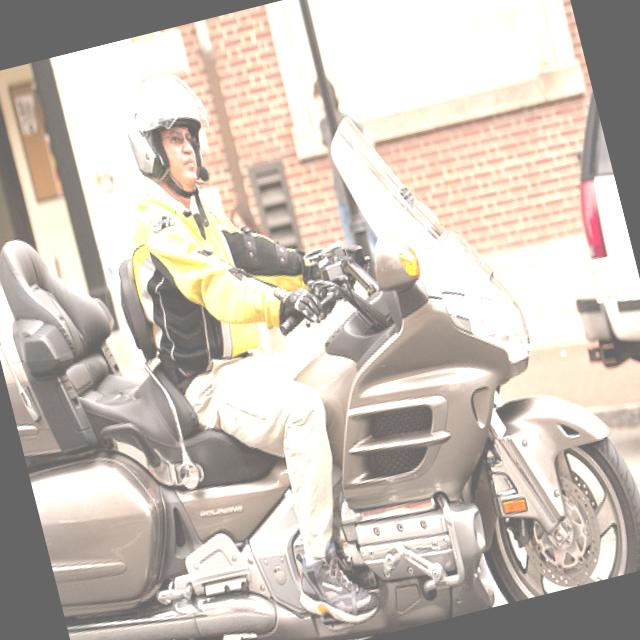Vehicle: (0, 67, 640, 640), (521, 69, 640, 384)
